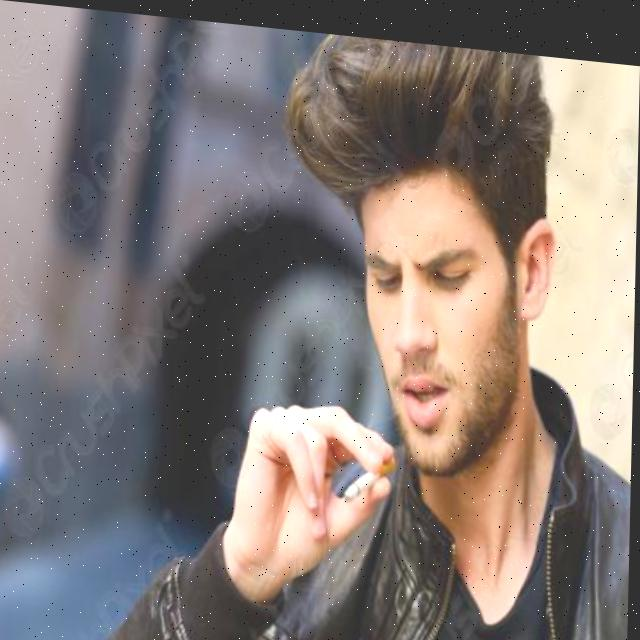cigarette: (344, 443, 400, 499)
